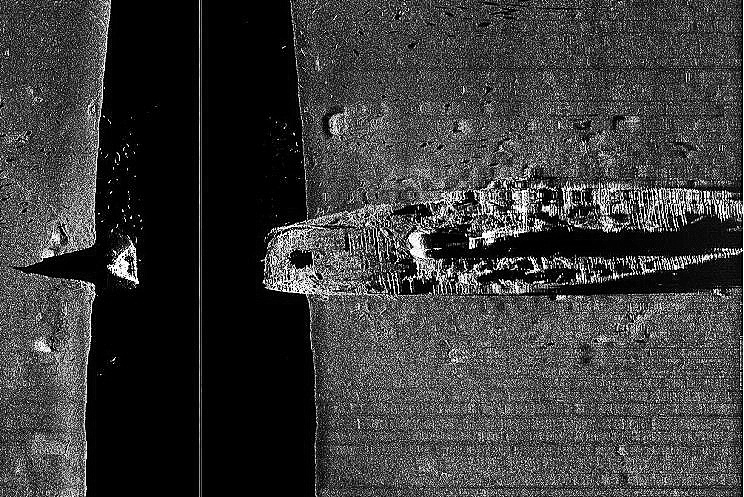ship: (104, 181, 744, 303)
